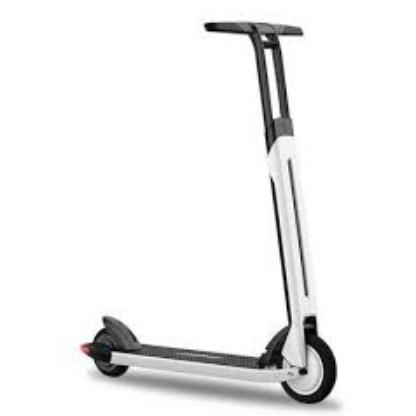bike: (79, 15, 339, 407)
